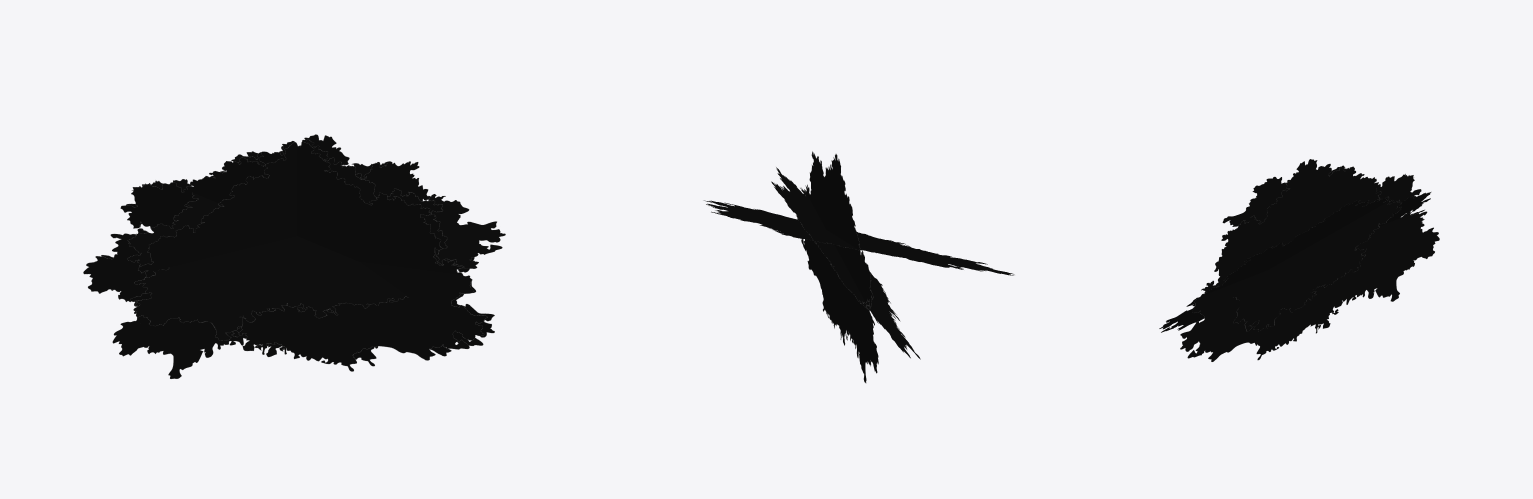
Rendered from TreeRoof.glb.
3 views of the same model, side by side, from view 1: azimuth 30°, elevation 25°; view 2: azimuth 150°, elevation 25°; view 3: azimuth 270°, elevation 25° (orthographic). The views are drawn at different scales.
Visible parts, largest first — view 1: TreeRoof; view 2: TreeRoof; view 3: TreeRoof.
Part boxes in pixels (x1,y1,x2,y2): TreeRoof: (83, 134, 505, 378); TreeRoof: (703, 151, 1014, 383); TreeRoof: (1159, 159, 1439, 361).
Size of the model in its own units: 2.29 by 2 by 2.33.
Materials: 1 (1 with a texture image).
